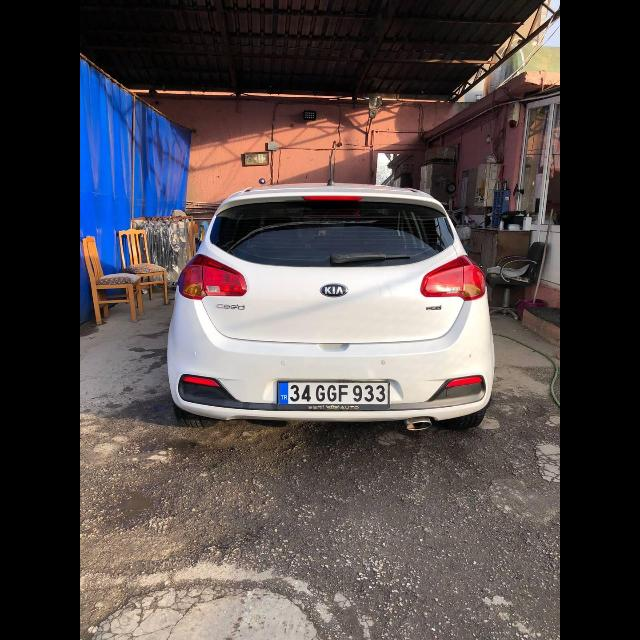Plaka: (280, 382, 390, 404)
